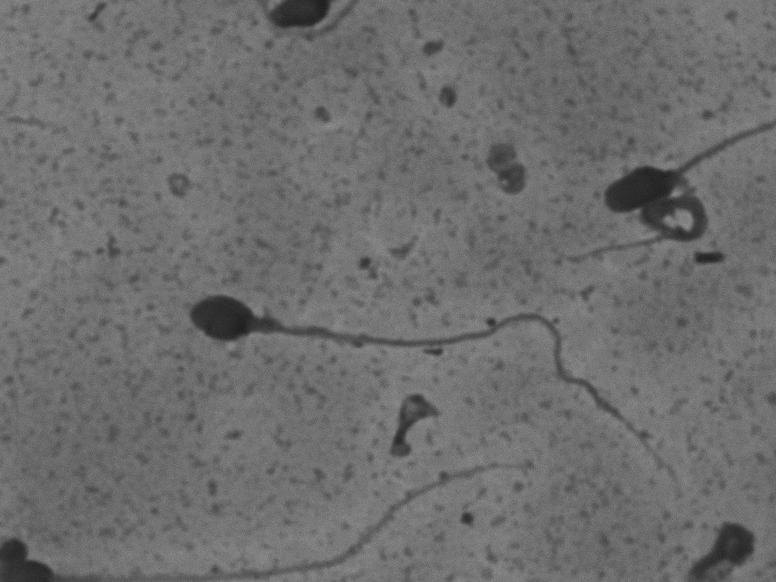Abnormal: (179, 274, 697, 489), (537, 97, 763, 276)
